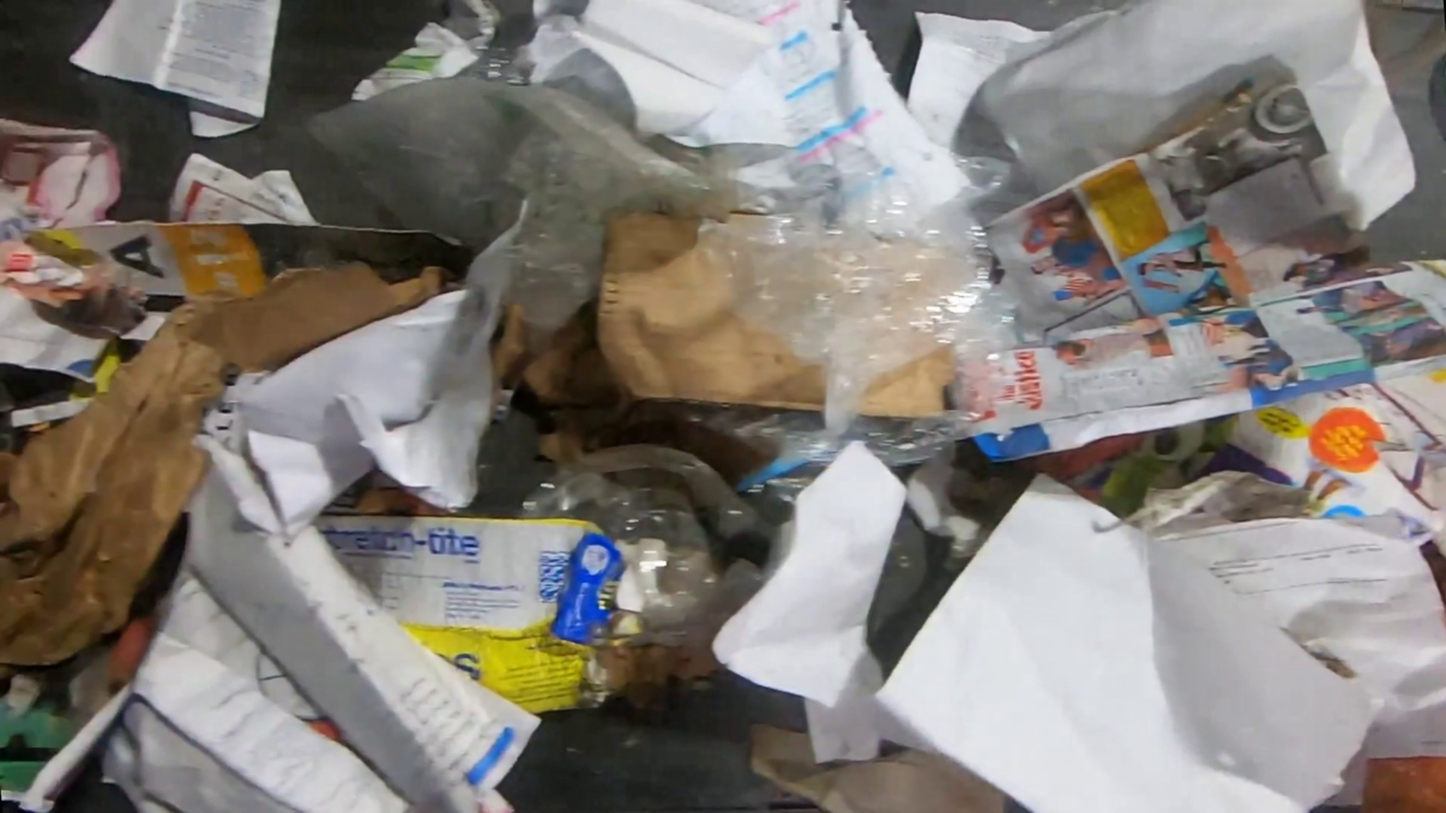cardboard: (0, 261, 461, 679), (310, 514, 645, 717), (26, 219, 478, 345), (592, 208, 825, 410), (859, 343, 953, 416)
plastic: (300, 74, 831, 396), (673, 155, 1025, 527), (515, 442, 794, 649), (1359, 753, 1446, 813)
